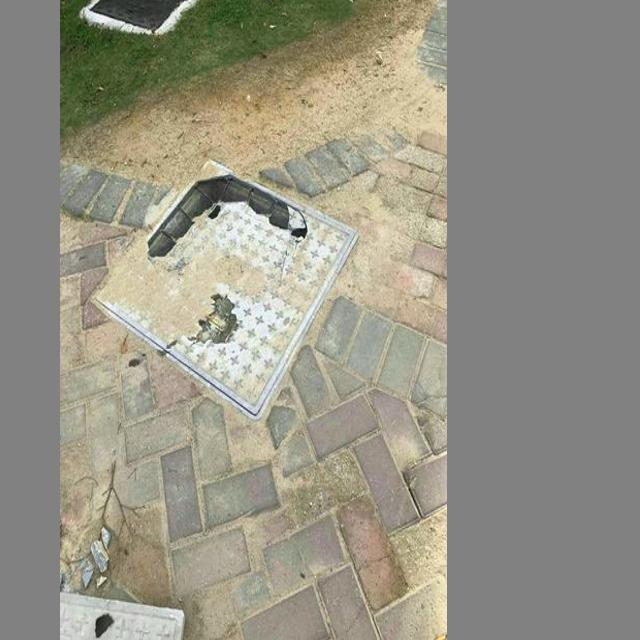broke: (99, 143, 363, 432)
